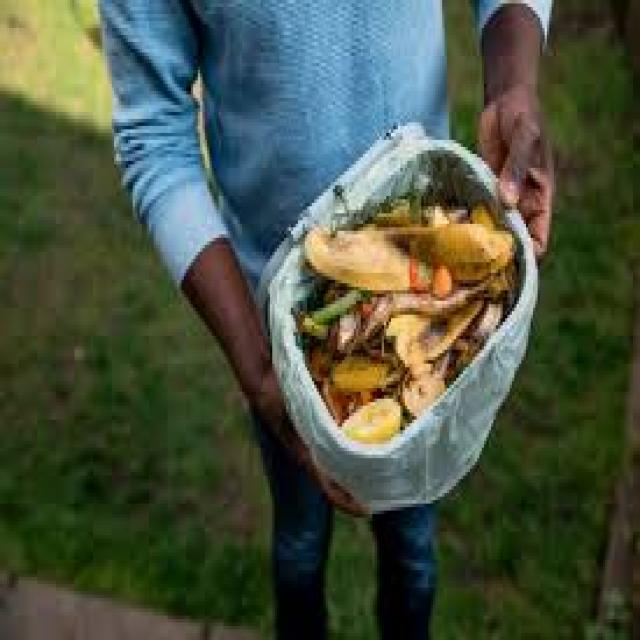Wet: (382, 280, 503, 364), (304, 228, 434, 300), (407, 203, 517, 272), (344, 393, 401, 446)
